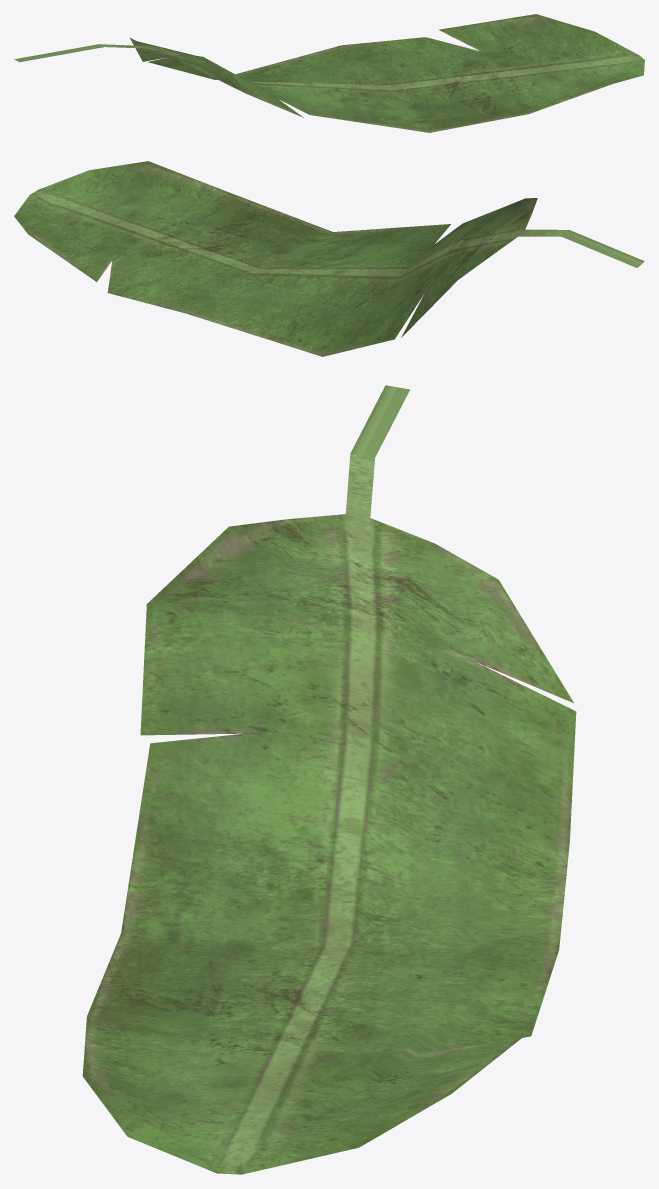
File: tree.fbx
3 views of the same model, one above another, from view 1: azimuth 30°, elevation 25°; view 2: azimuth 150°, elevation 25°; view 3: azimuth 270°, elevation 25° (orthographic). The views are drawn at different scales.
Parts seen in each view (by area): view 1: Trees.001; view 2: Trees.001; view 3: Trees.001.
Part boxes in pixels (x1,y1,x2,y2): Trees.001: (14, 14, 644, 132); Trees.001: (14, 161, 644, 356); Trees.001: (82, 385, 576, 1174).
Bounding box in the file's own units: 687 × 127 × 251.
